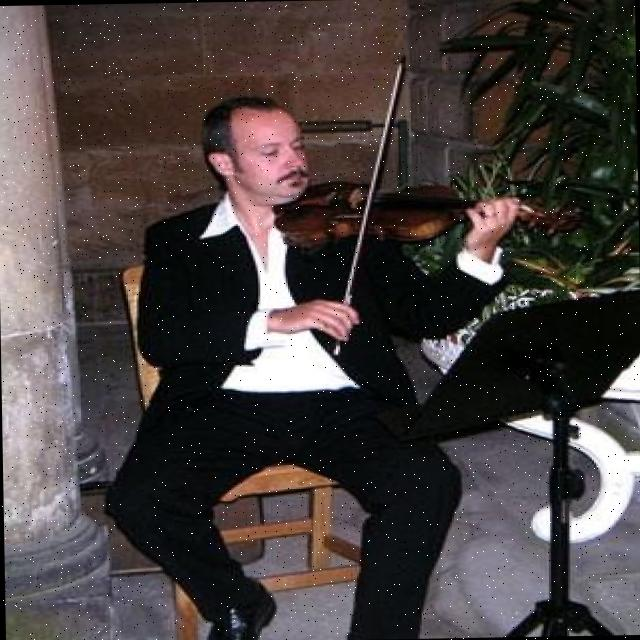violin: (275, 174, 586, 249)
